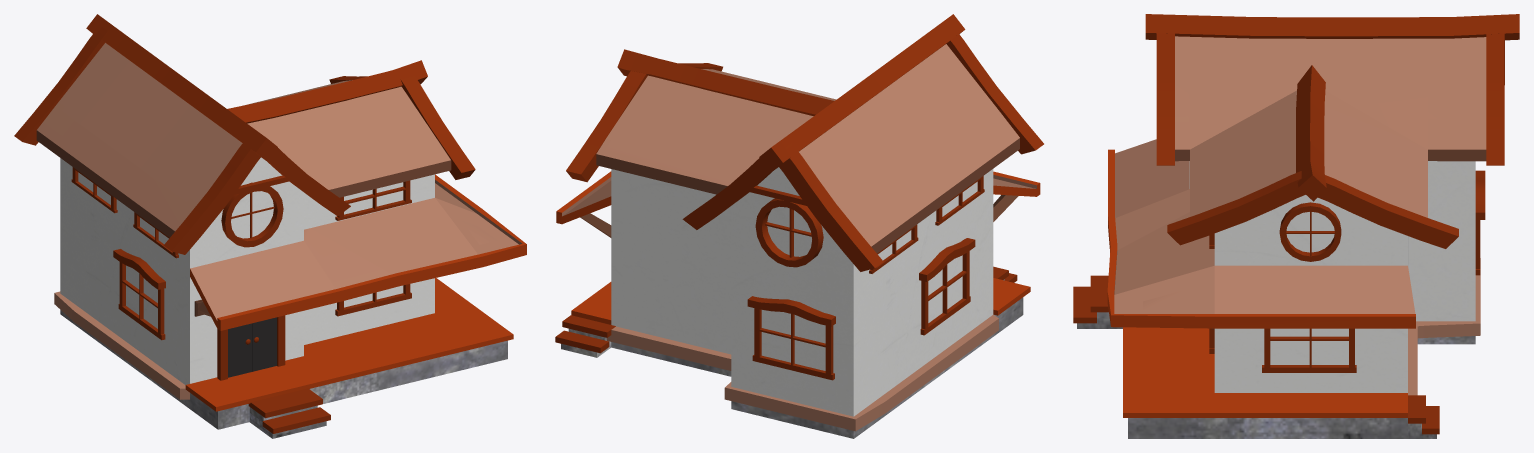
The model's file is House.fbx.
3 views of the same model, side by side, from view 1: azimuth 30°, elevation 25°; view 2: azimuth 150°, elevation 25°; view 3: azimuth 270°, elevation 25° (orthographic). The views are drawn at different scales.
Parts seen in each view (by area): view 1: pCube3, pCube4, pCube14, pCube10, pCube9, pCube13, pCube11, pPipe1, pCube25, pCube30, pCube29, pCube26 (+3 smaller); view 2: pCube3, pCube4, pCube14, pCube9, pCube12, pCube10, pCube34 (×2), pPipe1, pCube7, pCube27, pCube28, pCube35; view 3: pCube3, pCube4, pCube14, pCube12, pCube13, pCube11, pCube7, pPipe1, pCube26, pCube35, pCube25, pCube34 (+2 smaller).
Boxes of the visible parts, box(x1,y1,x2,y2) form: pCube3: box(36, 43, 526, 438); pCube4: box(86, 14, 277, 160); pCube14: box(227, 60, 427, 123); pCube10: box(163, 143, 260, 254); pCube9: box(14, 27, 108, 145); pCube13: box(400, 75, 475, 179); pCube11: box(267, 148, 350, 216); pPipe1: box(221, 182, 283, 247); pCube25: box(248, 388, 322, 418); pCube30: box(252, 317, 276, 371); pCube29: box(228, 323, 251, 377); pCube26: box(262, 407, 330, 433); pCube3: box(556, 44, 1040, 438); pCube4: box(759, 14, 965, 172); pCube14: box(617, 49, 834, 116); pCube9: box(779, 142, 883, 271); pCube12: box(566, 71, 647, 182); pCube10: box(946, 34, 1043, 154); pCube34 (×2): box(747, 238, 975, 326); pPipe1: box(755, 198, 823, 267); pCube7: box(682, 158, 771, 229); pCube27: box(555, 330, 609, 353); pCube28: box(562, 315, 615, 337); pCube35: box(752, 355, 834, 380); pCube3: box(1077, 36, 1486, 438); pCube4: box(1145, 14, 1519, 40); pCube14: box(1296, 65, 1326, 201); pCube12: box(1318, 175, 1458, 248); pCube13: box(1167, 171, 1305, 245); pCube11: box(1156, 33, 1174, 165); pCube7: box(1486, 33, 1504, 165); pPipe1: box(1279, 202, 1341, 261); pCube26: box(1073, 286, 1096, 323); pCube35: box(1262, 365, 1356, 372); pCube25: box(1090, 275, 1108, 312); pCube34: box(1475, 170, 1485, 219).
Bounding box in the file's own units: 23.68 × 18.26 × 24.65.
4 materials, 1 textured.
